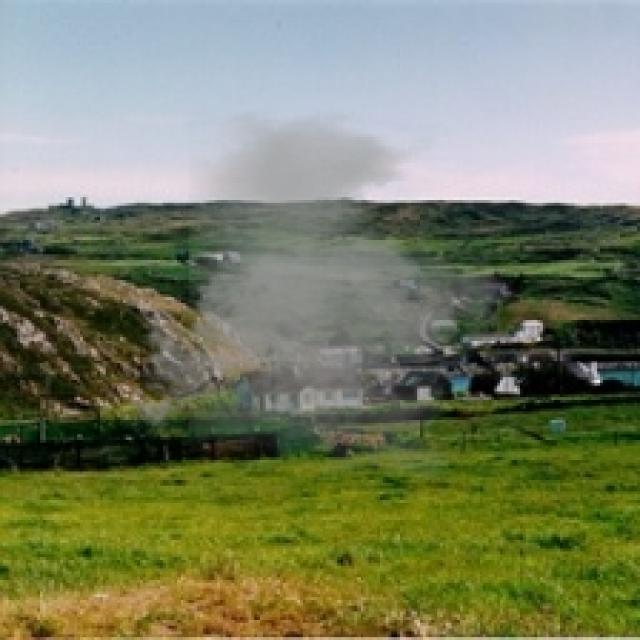smoke: (117, 109, 520, 477)
